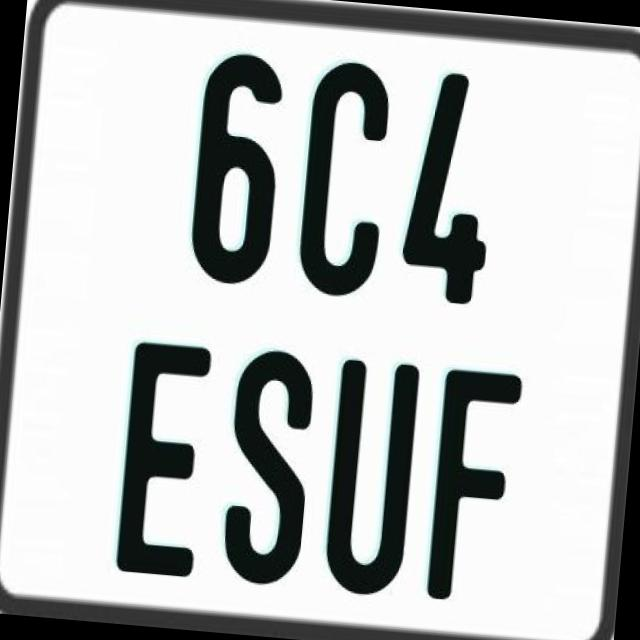4: (396, 65, 504, 307)
6: (186, 51, 287, 286)
C: (293, 55, 395, 298)
E: (114, 341, 215, 587)
F: (421, 367, 523, 606)
S: (216, 343, 320, 588)
U: (318, 354, 418, 597)
